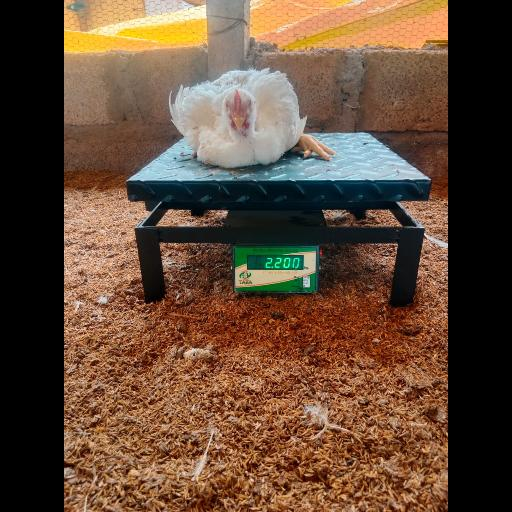chick: (169, 70, 336, 165)
